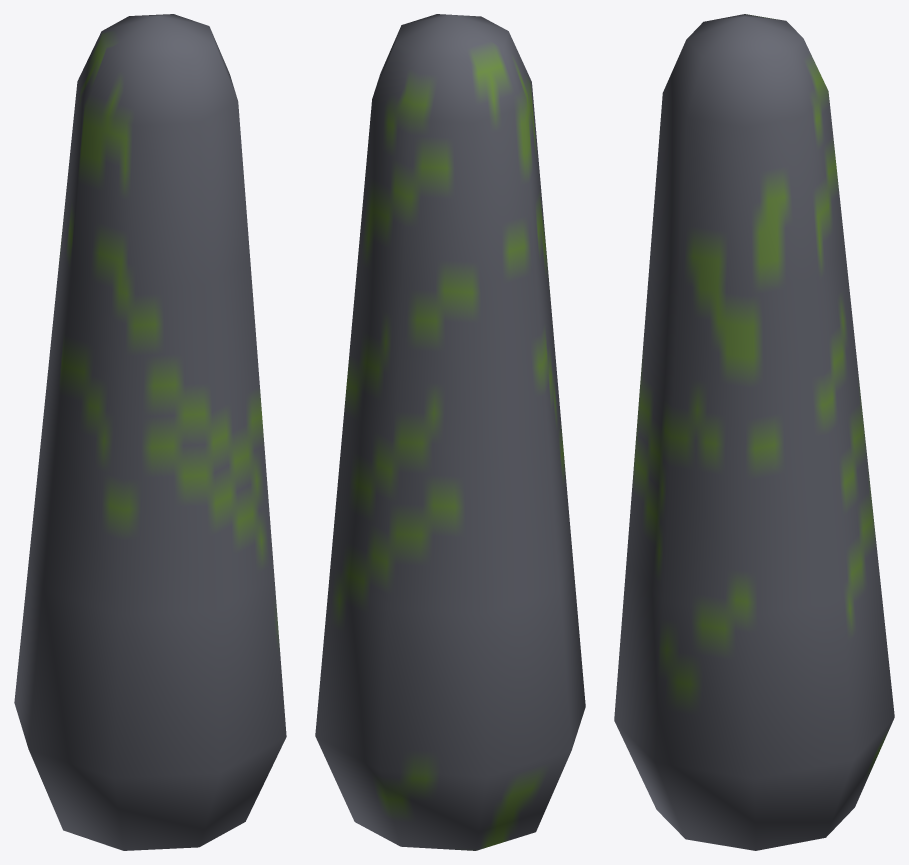
Rendered from prop_menhir2_1d7c.glb.
3 views of the same model, side by side, from view 1: azimuth 30°, elevation 25°; view 2: azimuth 150°, elevation 25°; view 3: azimuth 270°, elevation 25° (orthographic).
Visible parts, largest first — view 1: prop_menhir2_1d7c; view 2: prop_menhir2_1d7c; view 3: prop_menhir2_1d7c.
Part boxes in pixels (x1,y1,x2,y2): prop_menhir2_1d7c: [14, 14, 286, 850]; prop_menhir2_1d7c: [315, 14, 585, 850]; prop_menhir2_1d7c: [614, 14, 894, 850].
Bounding box in the file's own units: 0.389 × 1.27 × 0.389.
Materials: 1 (1 with a texture image).
